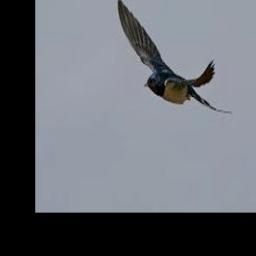Swallow: (117, 0, 232, 116)
